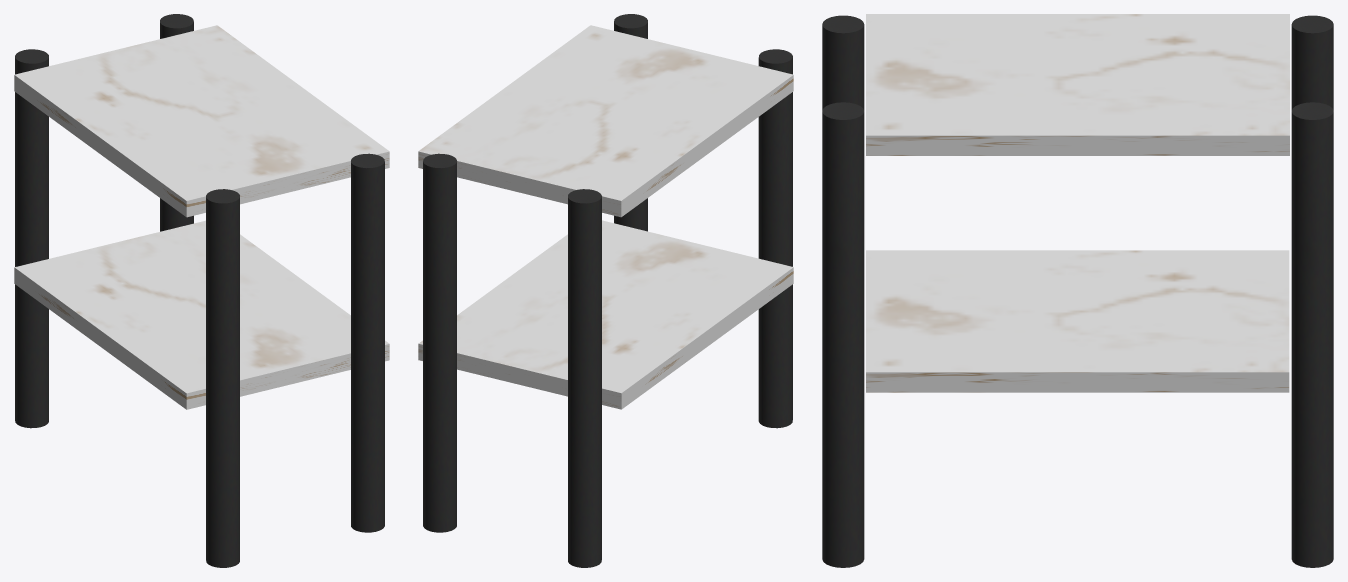
The model's file is lab stand.fbx.
3 renders of one model, left to right at view 1: azimuth 30°, elevation 25°; view 2: azimuth 150°, elevation 25°; view 3: azimuth 270°, elevation 25°, orthographic. The views are drawn at different scales.
Parts seen in each view (by area): view 1: pasted__pasted__pCube326, pasted__pasted__pCube324, pasted__pasted__pCylinder228, pasted__pasted__pCylinder229, pasted__pasted__pasted__pCylinder228, pasted__pasted__pasted__pCylinder229; view 2: pasted__pasted__pCube326, pasted__pasted__pCube324, pasted__pasted__pasted__pCylinder228, pasted__pasted__pasted__pCylinder229, pasted__pasted__pCylinder228, pasted__pasted__pCylinder229; view 3: pasted__pasted__pCube324, pasted__pasted__pCube326, pasted__pasted__pasted__pCylinder229, pasted__pasted__pCylinder229, pasted__pasted__pCylinder228, pasted__pasted__pasted__pCylinder228.
Part boxes in pixels (x1,y1,x2,y2): pasted__pasted__pCube326: (14,25,389,217); pasted__pasted__pCube324: (14,220,389,409); pasted__pasted__pCylinder228: (206,189,239,567); pasted__pasted__pCylinder229: (351,153,384,532); pasted__pasted__pasted__pCylinder228: (15,49,48,428); pasted__pasted__pasted__pCylinder229: (160,14,193,231); pasted__pasted__pCube326: (418,25,793,217); pasted__pasted__pCube324: (418,220,793,409); pasted__pasted__pasted__pCylinder228: (568,189,601,567); pasted__pasted__pasted__pCylinder229: (423,153,456,532); pasted__pasted__pCylinder228: (758,49,792,428); pasted__pasted__pCylinder229: (614,14,647,231); pasted__pasted__pCube324: (866,250,1289,392); pasted__pasted__pCube326: (866,14,1289,155); pasted__pasted__pasted__pCylinder229: (1291,102,1333,567); pasted__pasted__pCylinder229: (822,102,864,567); pasted__pasted__pCylinder228: (822,15,864,110); pasted__pasted__pasted__pCylinder228: (1291,15,1333,110).
Size of the model in its own units: 0.3702 by 0.6347 by 0.6568.
1 material, 1 textured.
